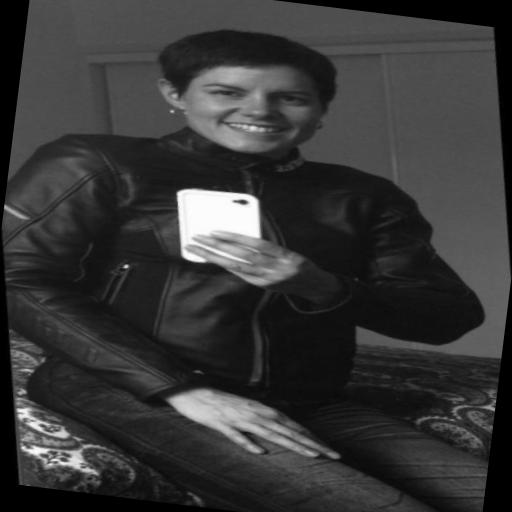phone: (178, 185, 264, 268)
